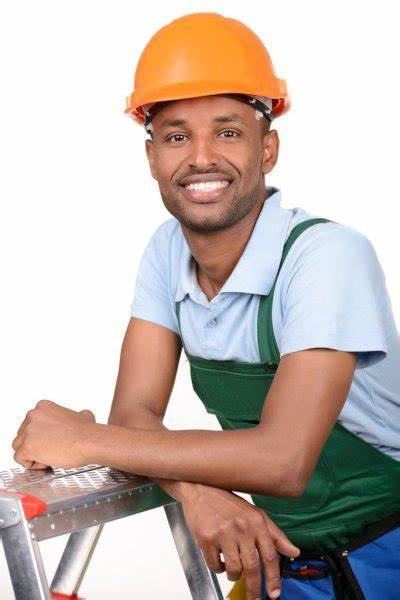safetyhat: (96, 5, 382, 564)
